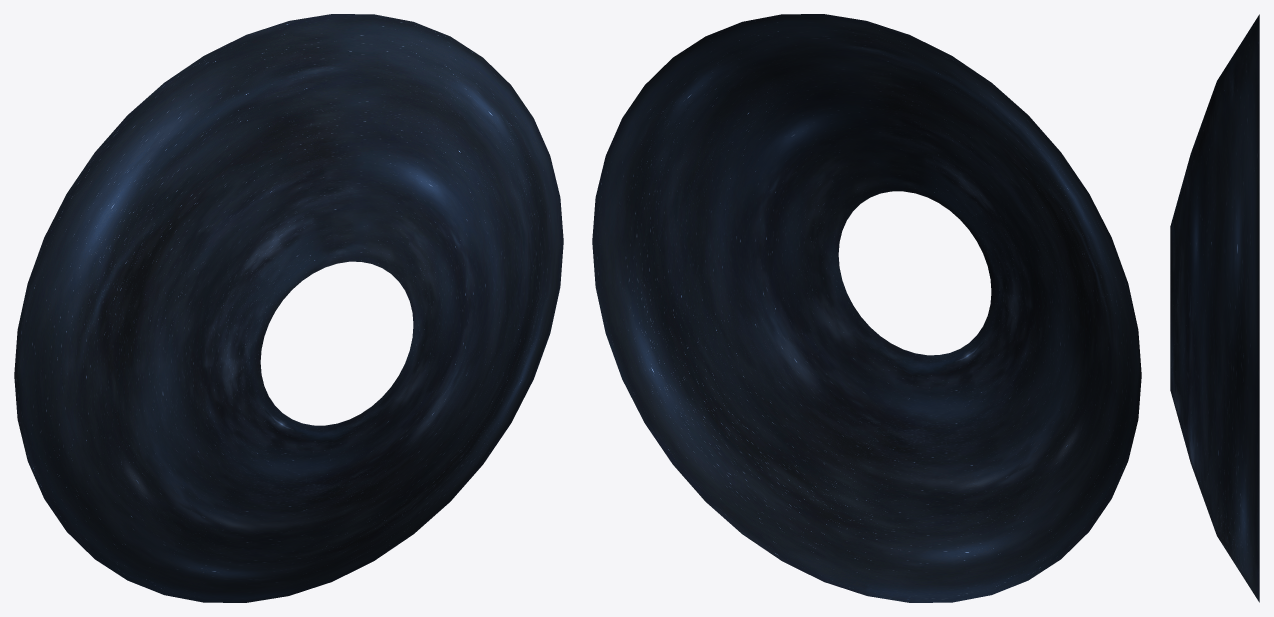
File: yantong.FBX
3 views of the same model, side by side, from view 1: azimuth 30°, elevation 25°; view 2: azimuth 150°, elevation 25°; view 3: azimuth 270°, elevation 25° (orthographic). The views are drawn at different scales.
Visible parts, largest first — view 1: yantong; view 2: yantong; view 3: yantong.
Part boxes in pixels (x1,y1,x2,y2): yantong: (14, 14, 563, 602); yantong: (592, 14, 1141, 602); yantong: (1170, 14, 1259, 602).
Bounding box in the file's own units: 1834 × 1834 × 278.
